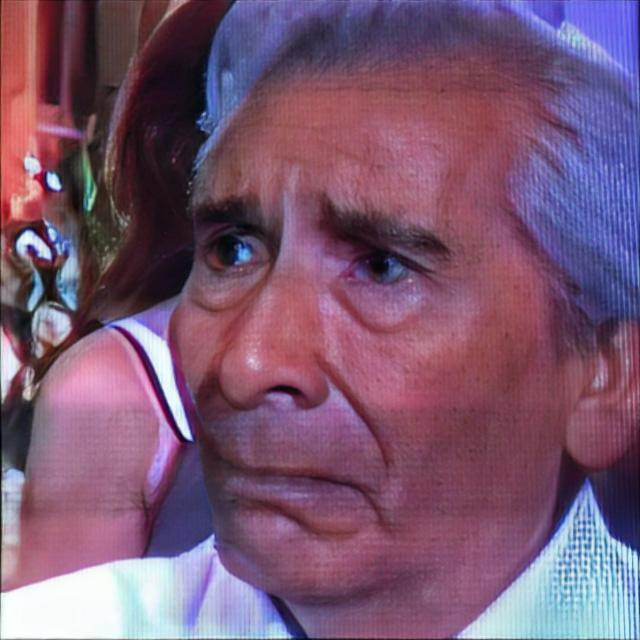sad: (162, 65, 566, 609)
